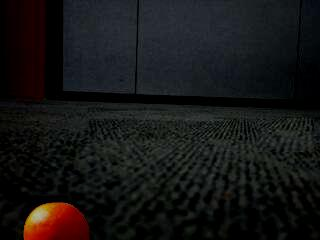Orange: (21, 201, 93, 240)
